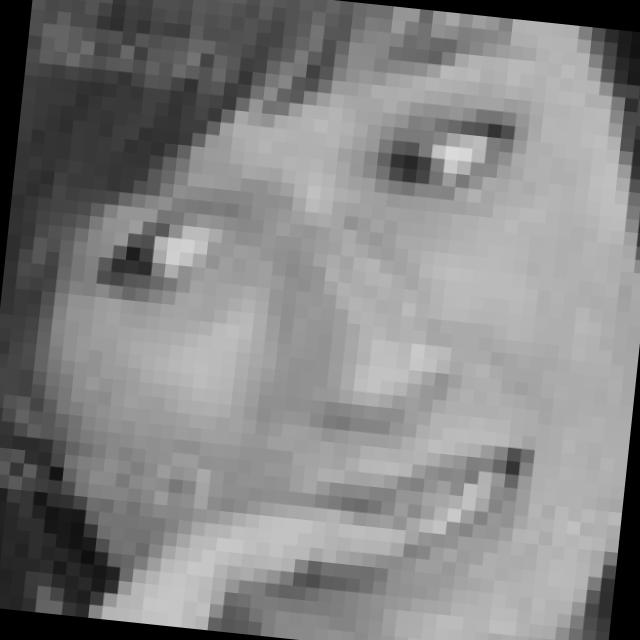fear: (42, 0, 589, 628)
